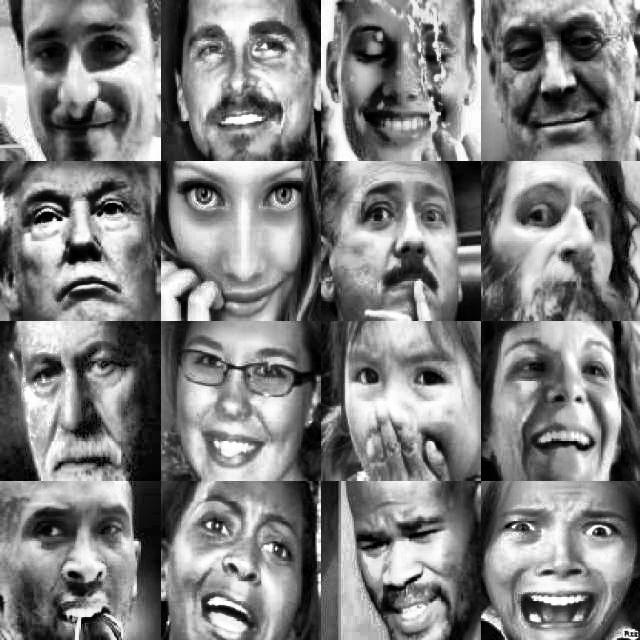angry: (328, 491, 477, 628), (20, 492, 143, 635), (179, 494, 297, 634)
fear: (327, 331, 476, 471), (493, 499, 630, 633)
happy: (166, 165, 302, 309), (492, 336, 634, 472), (176, 333, 314, 471), (19, 12, 143, 150), (344, 10, 468, 147), (181, 15, 298, 149), (501, 26, 625, 144)
neutral: (8, 328, 150, 476), (10, 168, 147, 312), (333, 175, 471, 309), (499, 176, 617, 312)
